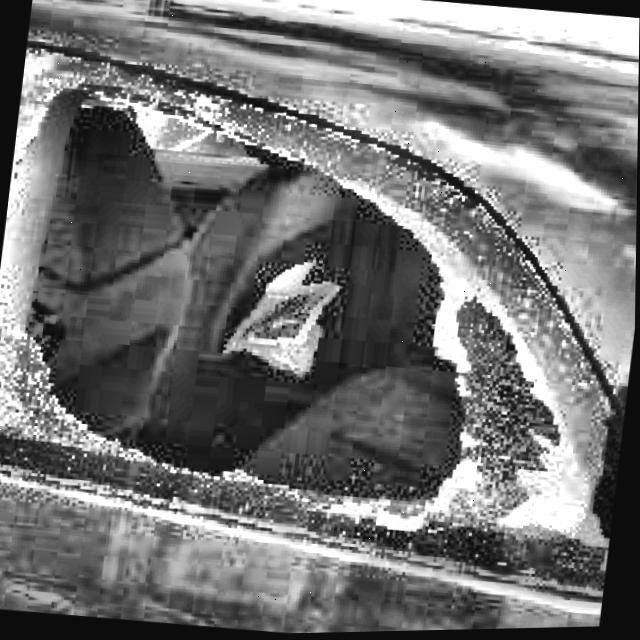glass_shatter: (0, 84, 289, 498), (256, 150, 499, 543)
